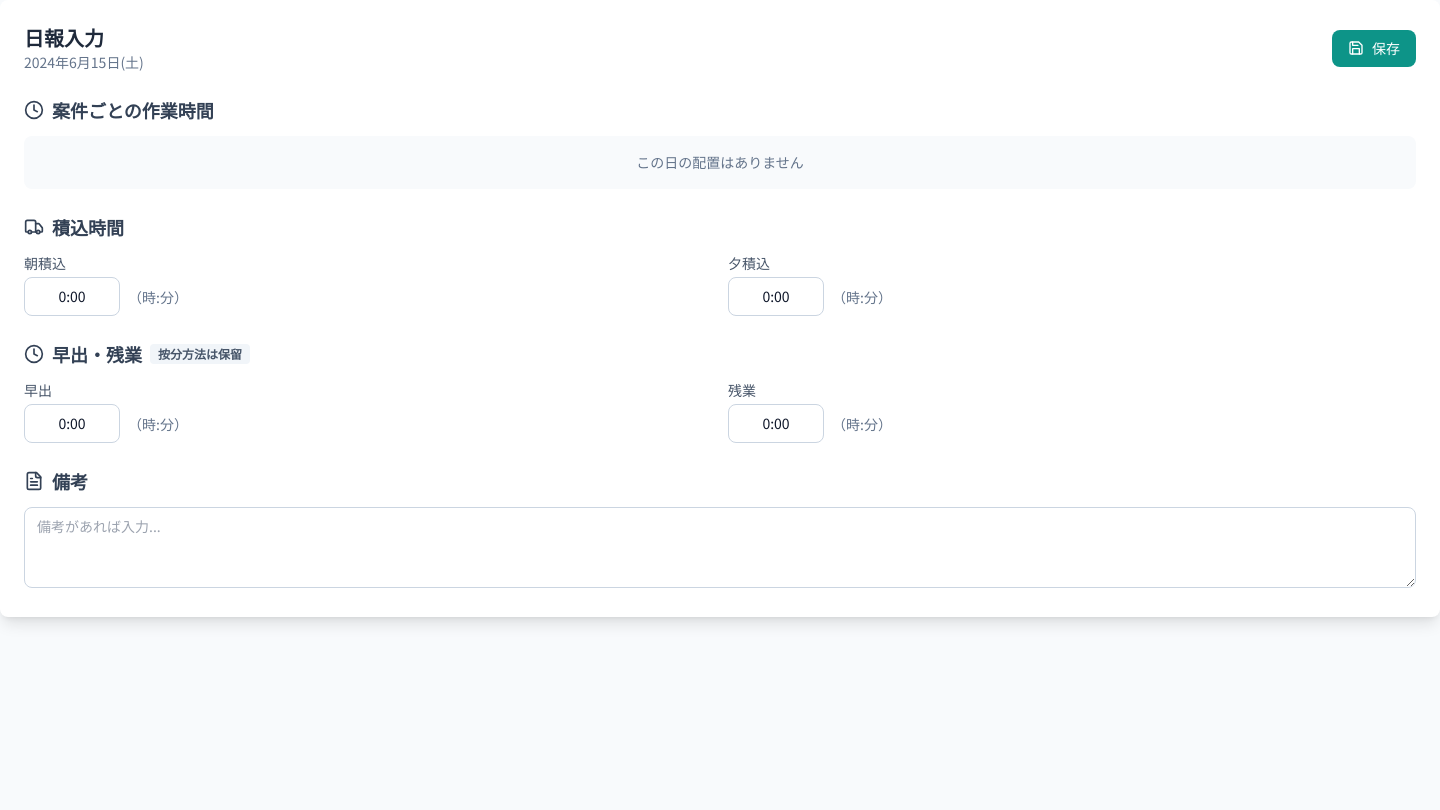
Test: DailyReportForm › should show success message after save
This screenshot has width=1440, height=810.
Click the button "保存" at [1374, 48], box [1332, 30, 1416, 66]
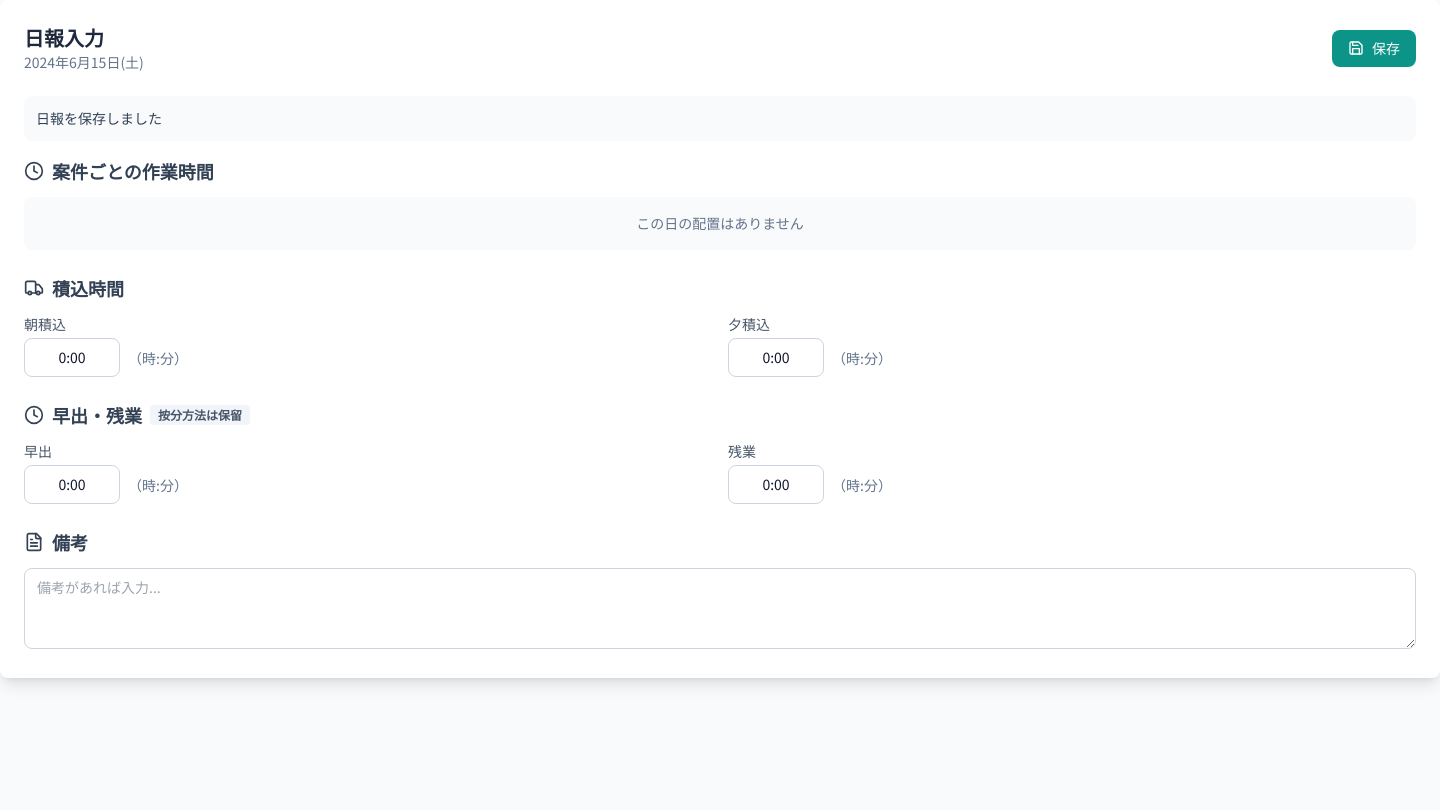
expect the text "日報を保存しました" is shown: met, box [24, 96, 1416, 141]
